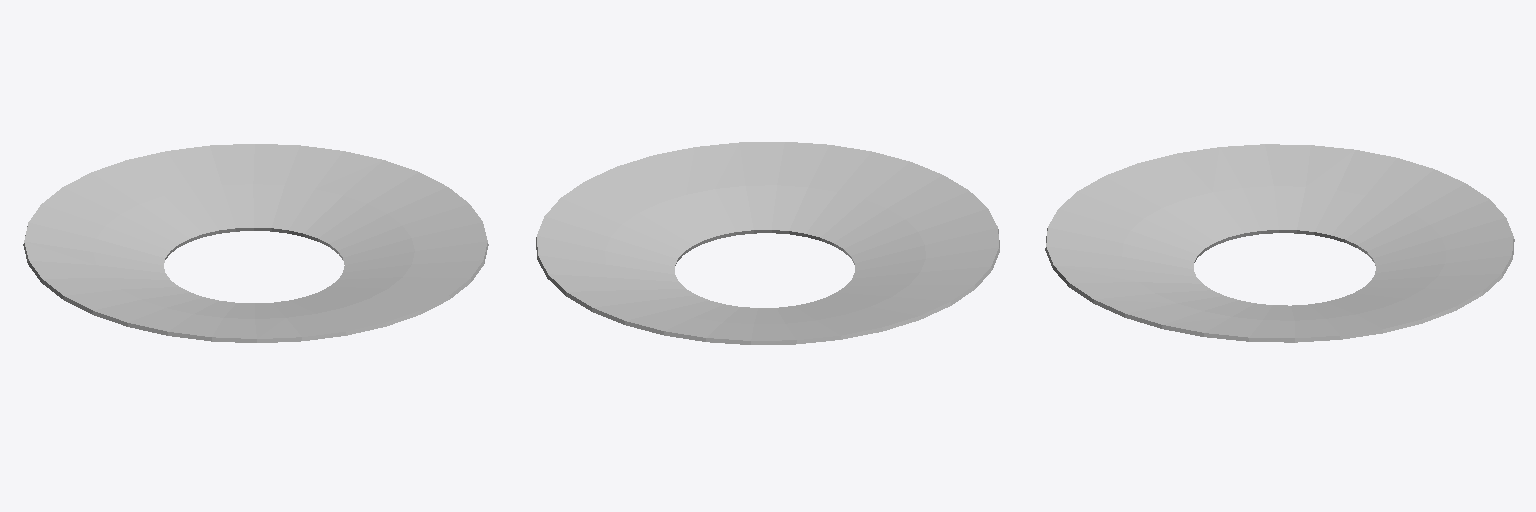
Rendered from iris.obj.
The picture shows the model from 3 angles: view 1: azimuth 30°, elevation 25°; view 2: azimuth 150°, elevation 25°; view 3: azimuth 270°, elevation 25°; orthographic projection.
Parts seen in each view (by area): view 1: default; view 2: default; view 3: default.
Boxes of the visible parts, <box> form: default: <box>23,144,488,342</box>; default: <box>536,142,999,344</box>; default: <box>1045,144,1514,342</box>.
Size of the model in its own units: 1.06 by 0.0801 by 1.07.